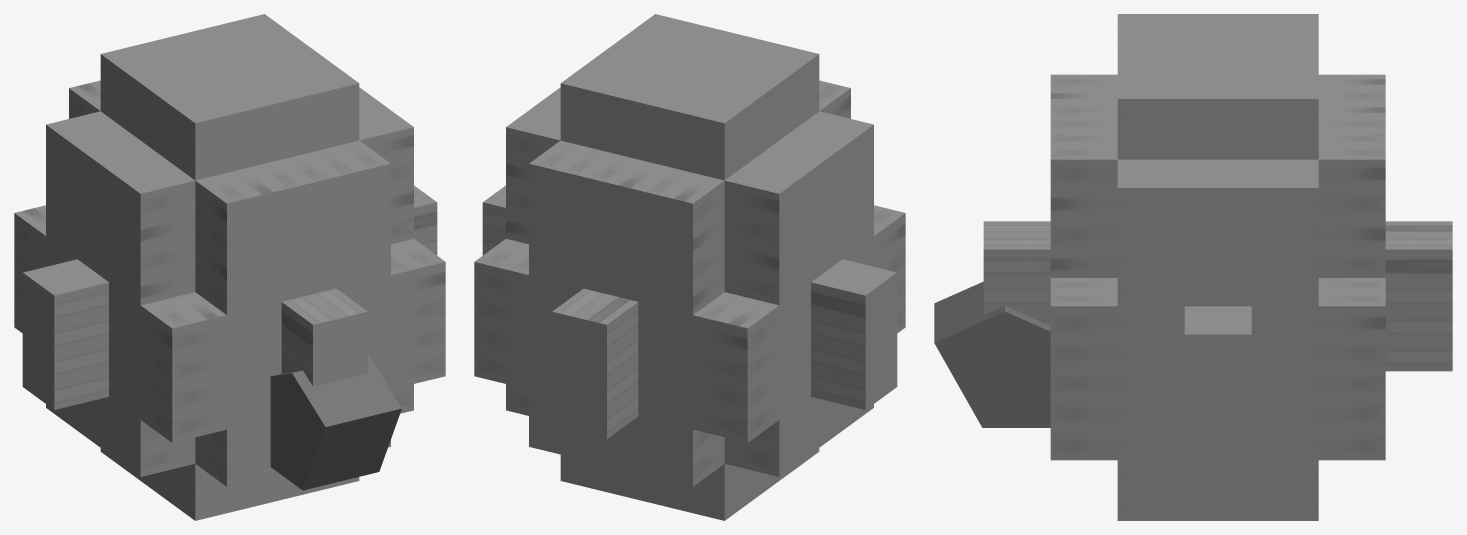
File: egg_z01_01.glb
The picture shows the model from 3 angles, left to right: view 1: azimuth 30°, elevation 25°; view 2: azimuth 150°, elevation 25°; view 3: azimuth 270°, elevation 25°; orthographic projection. The views are drawn at different scales.
Parts seen in each view (by area): view 1: model_069; view 2: model_069; view 3: model_069.
Part boxes in pixels (x1,y1,x2,y2): model_069: (14, 14, 445, 520); model_069: (474, 14, 905, 520); model_069: (934, 14, 1452, 520).
Size of the model in its own units: 3.51 by 3.49 by 3.88.
2 materials, 2 textured.
